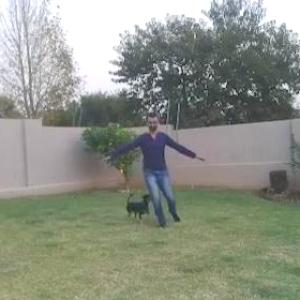land: (96, 118, 194, 232)
